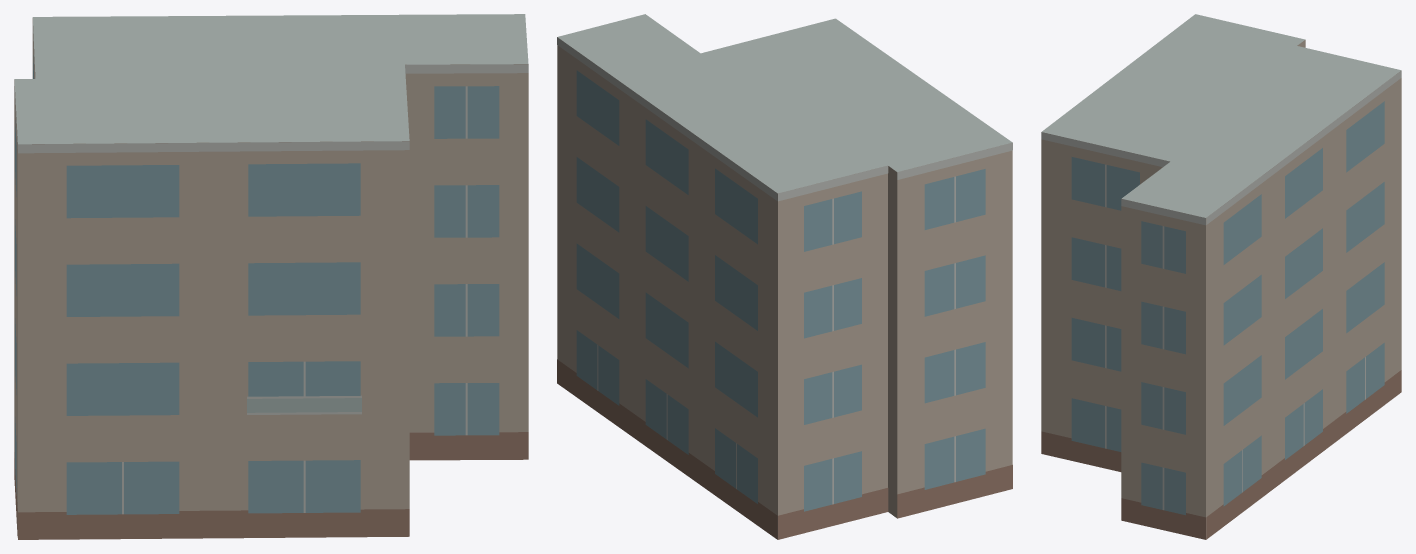
The model's file is survey-upis-32868002.glb.
The picture shows the model from 3 angles, left to right: view 1: azimuth 30°, elevation 25°; view 2: azimuth 150°, elevation 25°; view 3: azimuth 270°, elevation 25°; orthographic projection. The views are drawn at different scales.
Visible parts, largest first — view 1: survey-upis-32868002.tmp; view 2: survey-upis-32868002.tmp; view 3: survey-upis-32868002.tmp.
Boxes of the visible parts, box(x1,y1,x2,y2) form: survey-upis-32868002.tmp: box(14, 14, 528, 539); survey-upis-32868002.tmp: box(557, 14, 1012, 539); survey-upis-32868002.tmp: box(1041, 14, 1401, 539).
Size of the model in its own units: 14.49 by 10.65 by 10.81.
